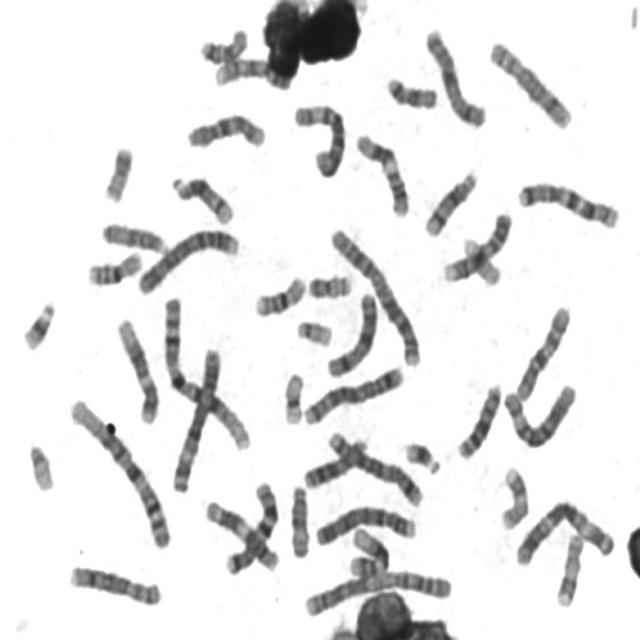A1: (63, 392, 174, 551), (157, 289, 254, 453)
A2: (325, 222, 423, 368), (299, 564, 455, 619)
A3: (167, 340, 225, 495), (511, 494, 618, 569)
B4: (132, 220, 242, 298), (311, 499, 419, 548)
B5: (323, 425, 425, 508), (299, 359, 406, 427)
C10: (511, 299, 574, 403), (182, 106, 268, 152)
C11: (200, 493, 280, 574), (351, 128, 412, 220)
C12: (112, 311, 162, 426), (346, 521, 392, 579)
C6: (498, 377, 580, 450), (288, 97, 348, 180)
C7: (512, 173, 623, 231), (221, 475, 281, 577)
C8: (484, 34, 574, 132), (64, 558, 164, 608)
C9: (438, 206, 514, 284), (210, 51, 294, 92)
D13: (298, 430, 371, 492), (453, 376, 504, 461)
D14: (420, 162, 480, 238), (166, 169, 236, 226)
D15: (96, 215, 170, 256), (285, 479, 312, 561)
E16: (250, 268, 308, 318), (82, 243, 145, 288)
E17: (552, 526, 586, 610), (496, 461, 531, 532)
E18: (195, 22, 250, 67), (382, 70, 440, 112)
F19: (459, 231, 503, 287), (278, 365, 306, 427)
F20: (98, 139, 135, 203), (304, 267, 354, 301)
G21: (17, 292, 57, 353), (399, 435, 444, 477)
G22: (23, 434, 56, 494), (291, 313, 335, 349)
X: (420, 22, 489, 130), (322, 286, 381, 380)
